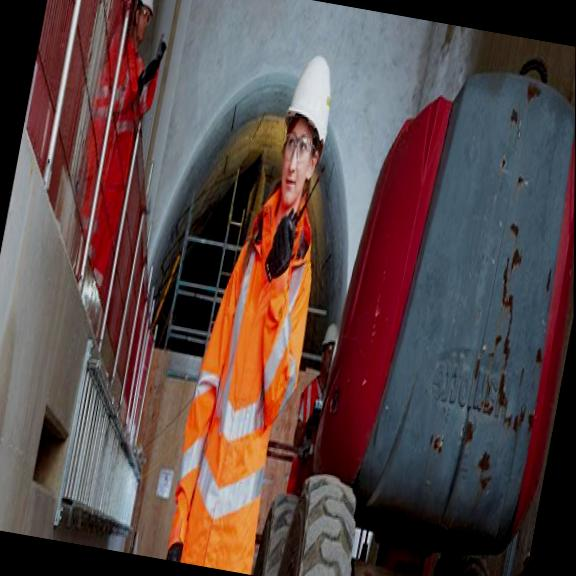safety_vest: (165, 202, 333, 576)
